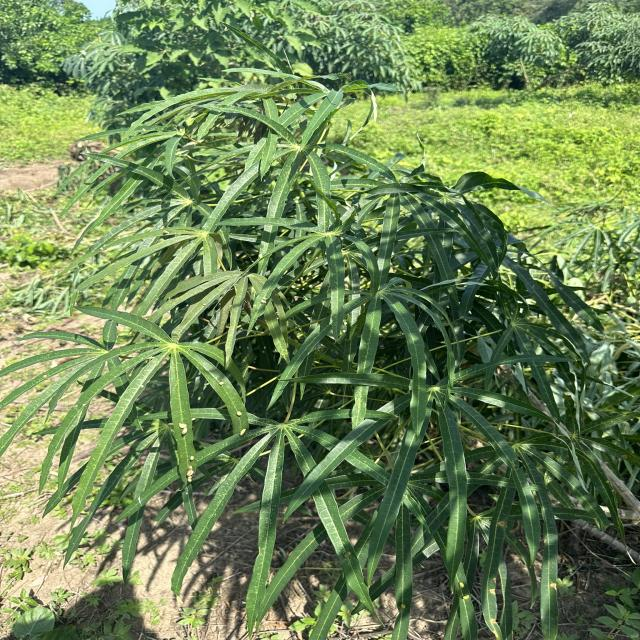Maleza: (424, 96, 624, 168)
Mosca: (229, 403, 255, 443), (181, 454, 200, 491), (209, 372, 232, 399), (452, 580, 477, 602), (172, 416, 191, 440), (542, 572, 563, 593), (154, 220, 173, 243), (249, 295, 278, 310), (393, 595, 417, 613), (38, 367, 58, 384), (195, 299, 214, 312)
